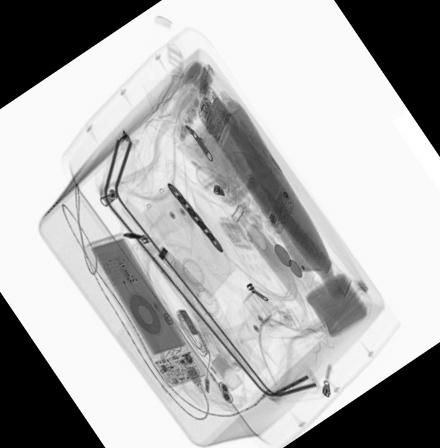Powerbank: (80, 229, 206, 386)
